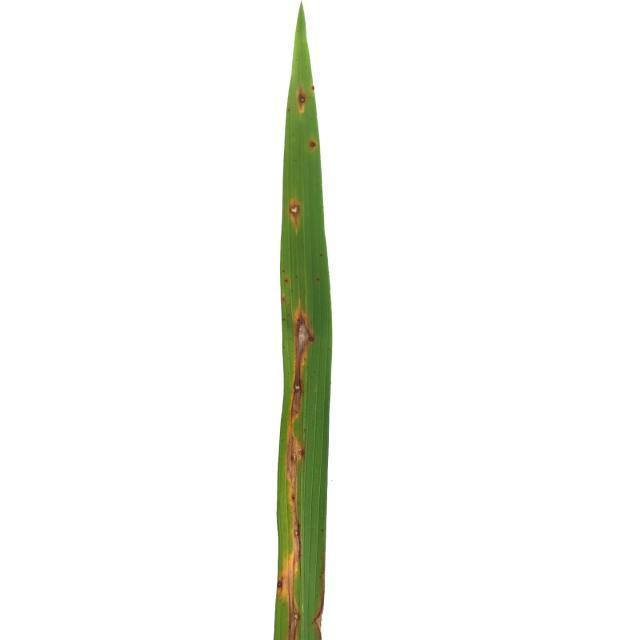Leaf_Blast: (296, 304, 314, 366), (284, 435, 300, 496), (290, 195, 310, 232), (284, 597, 301, 640), (292, 520, 305, 572), (294, 374, 307, 423), (296, 84, 309, 116), (315, 593, 323, 640), (310, 137, 317, 154)
